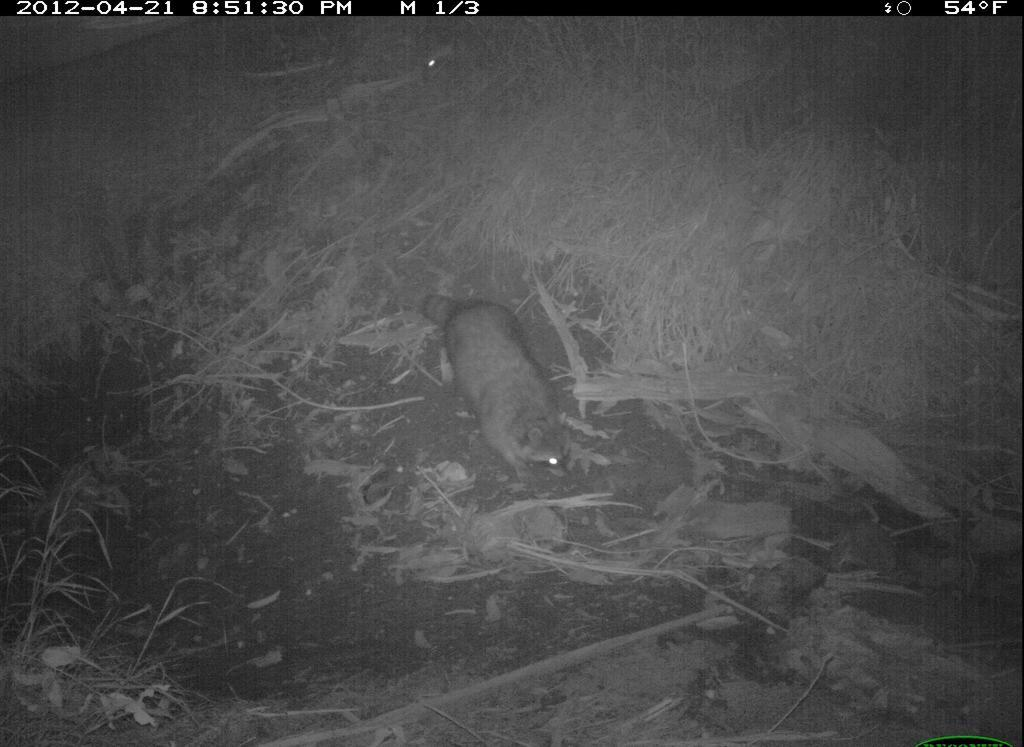raccoon: (409, 283, 592, 495)
